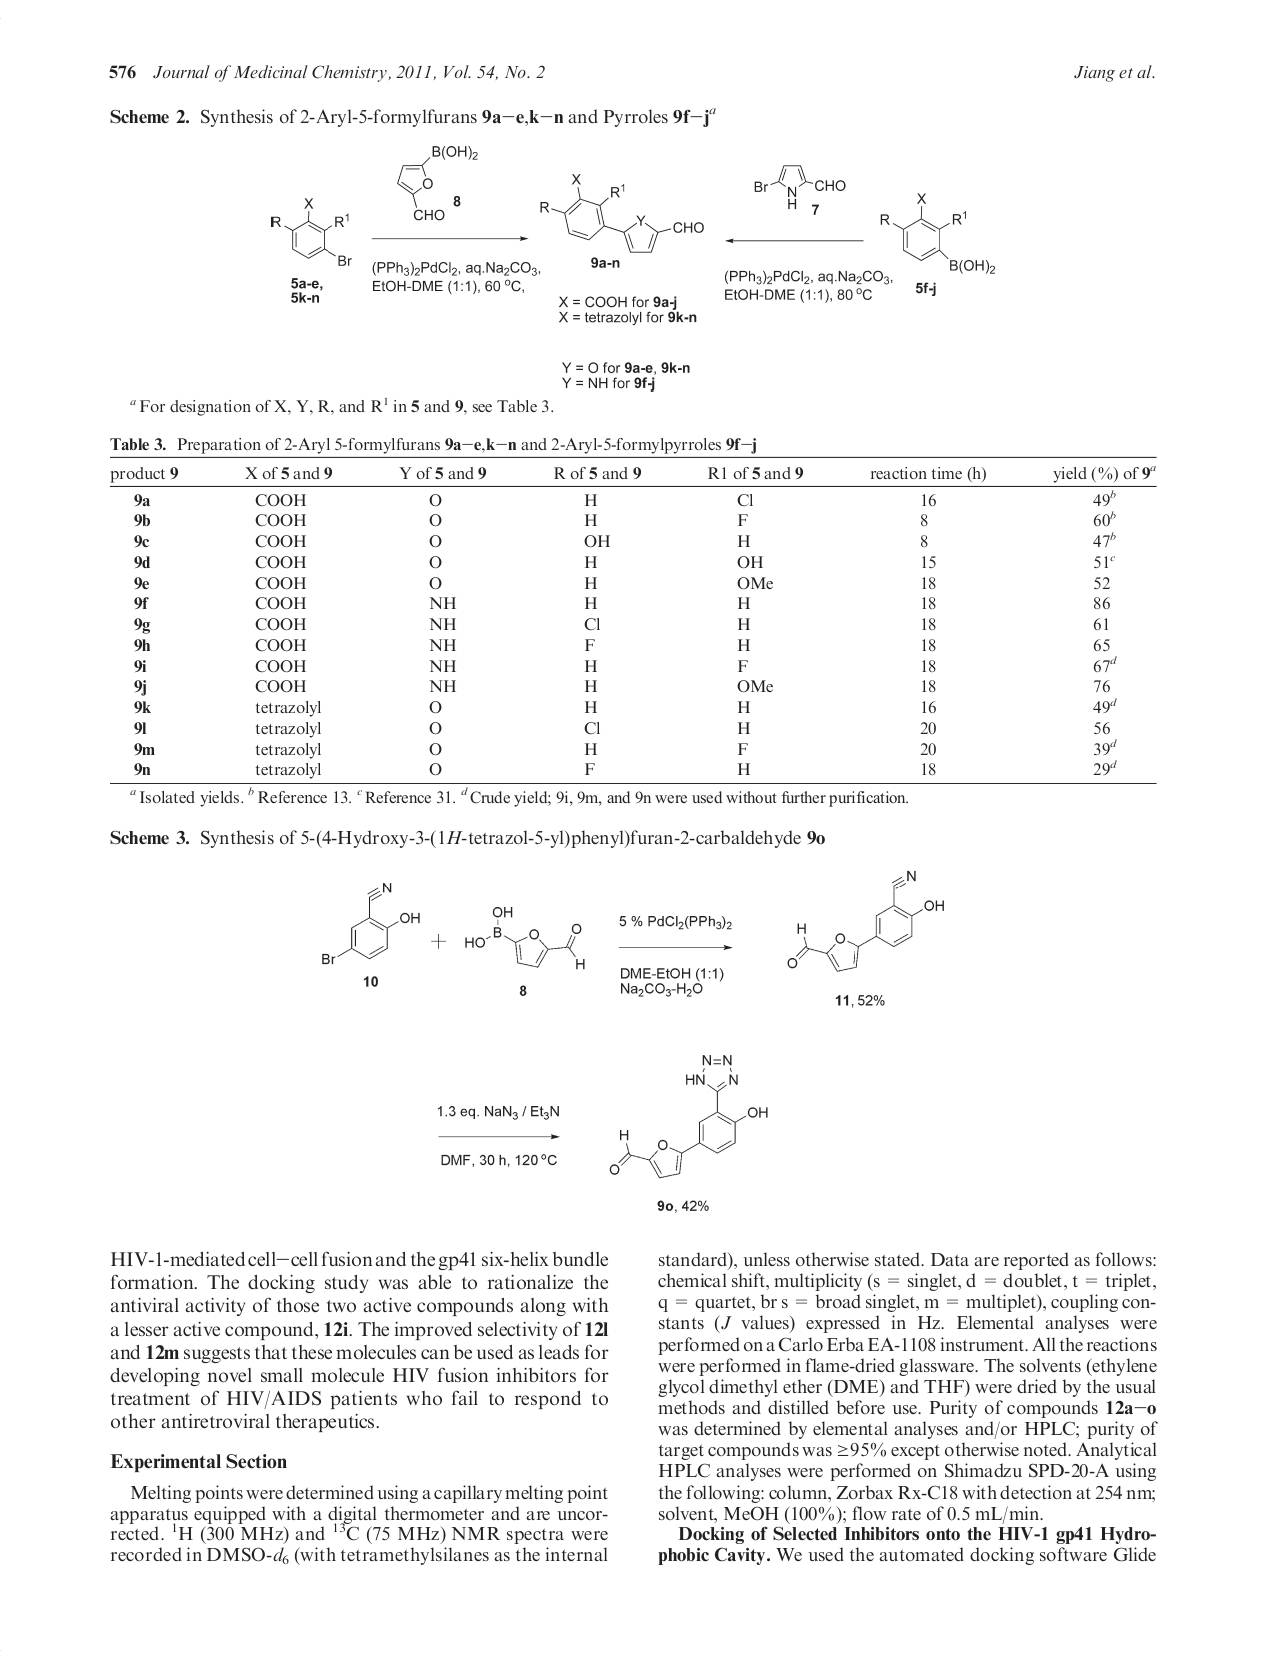exist_molecular: (605, 1051, 769, 1184), (785, 868, 947, 975), (537, 172, 706, 258), (876, 189, 1000, 278), (320, 880, 424, 969), (461, 904, 588, 969), (396, 141, 480, 219), (269, 195, 354, 269), (750, 162, 846, 211)
